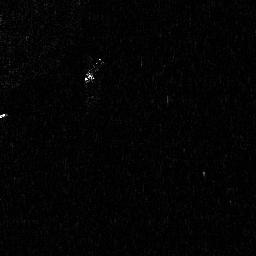ship: (82, 55, 102, 84)
